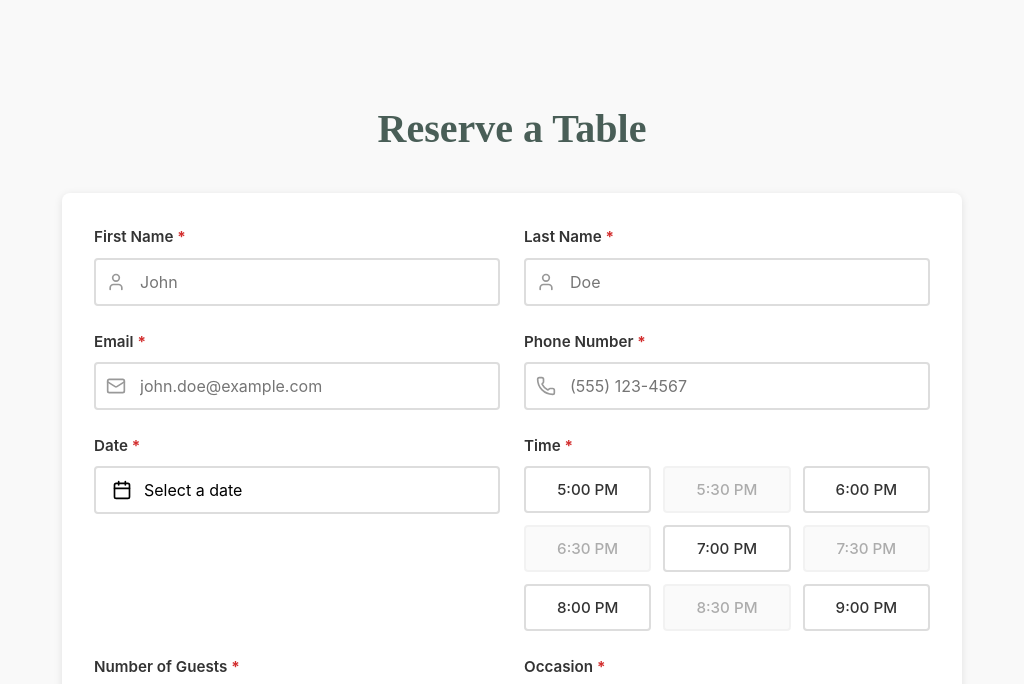
Test: BookingForm Component › shows validation error for invalid email
This screenshot has width=1024, height=684.
Type "invalid-email" into the field labelled "Email *" at (297, 386), box [94,362,500,410]
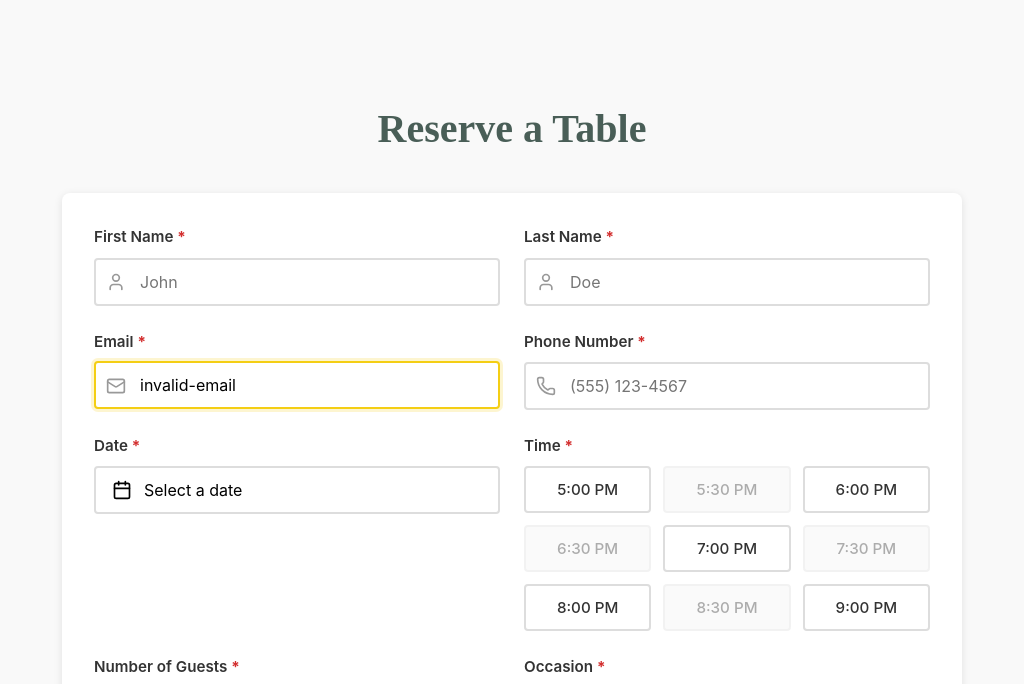
Press Tab
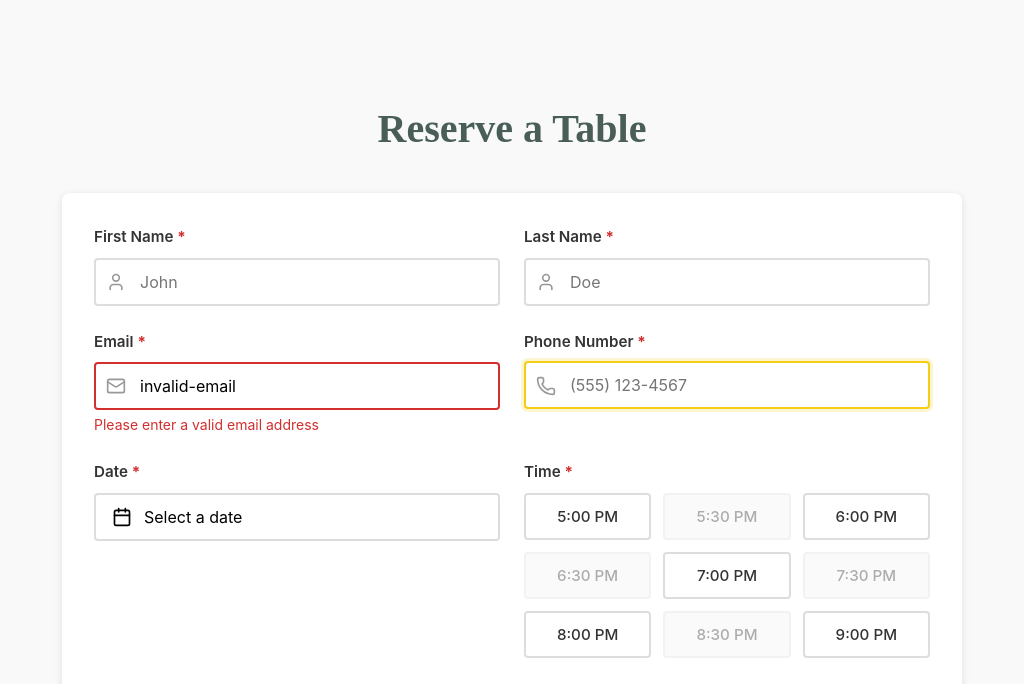
expect the text "Please enter a valid email address" is shown: met, box [94,416,319,433]
